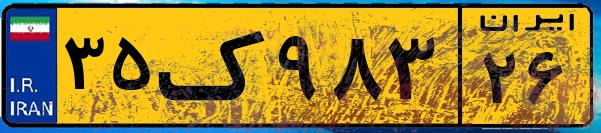2: (475, 38, 525, 113)
3: (385, 28, 445, 110), (57, 26, 110, 100)
5: (110, 28, 158, 98)
6: (525, 38, 570, 115)
8: (330, 28, 385, 110)
9: (270, 28, 330, 110)
ک: (158, 12, 270, 120)
